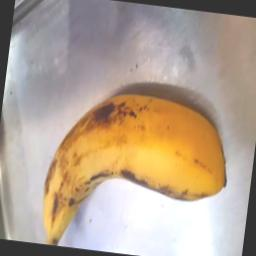Banana Overripe: (0, 73, 256, 242)
